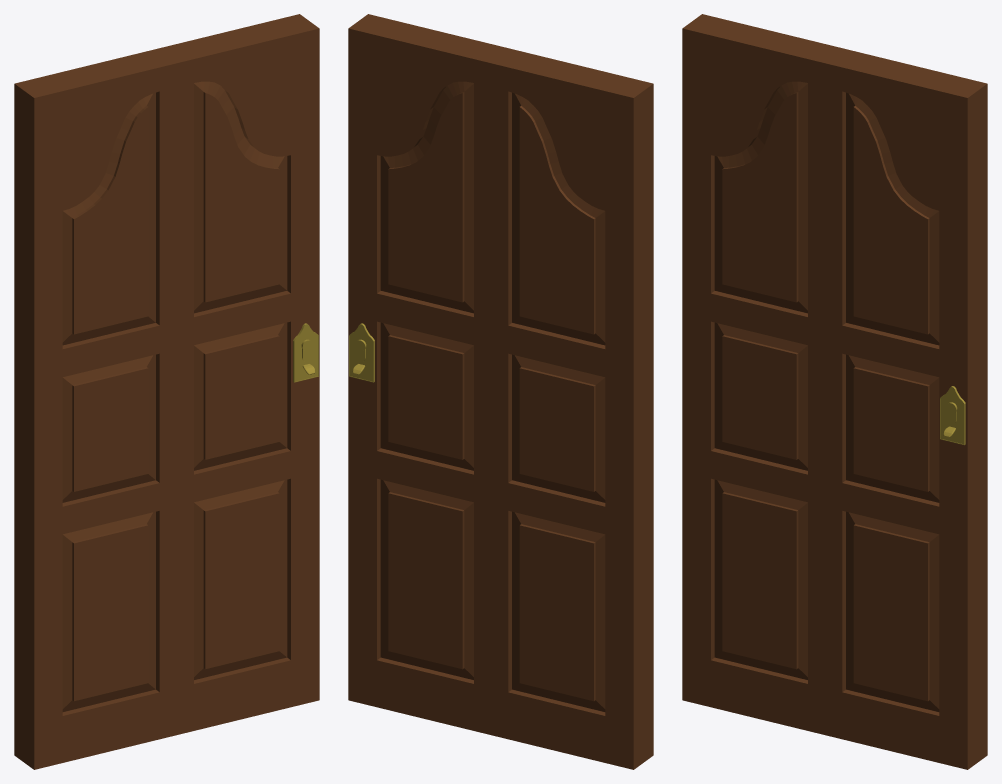
The model's file is Door.fbx.
The picture shows the model from 3 angles, left to right: view 1: azimuth 30°, elevation 25°; view 2: azimuth 150°, elevation 25°; view 3: azimuth 330°, elevation 25°; orthographic projection.
Visible parts, largest first — view 1: Door; view 2: Door; view 3: Door.
Part boxes in pixels (<box>): Door: <box>14,14,319,769</box>; Door: <box>348,14,653,769</box>; Door: <box>682,14,987,769</box>.
Bounding box in the file's own units: 259 × 584 × 52.54.
